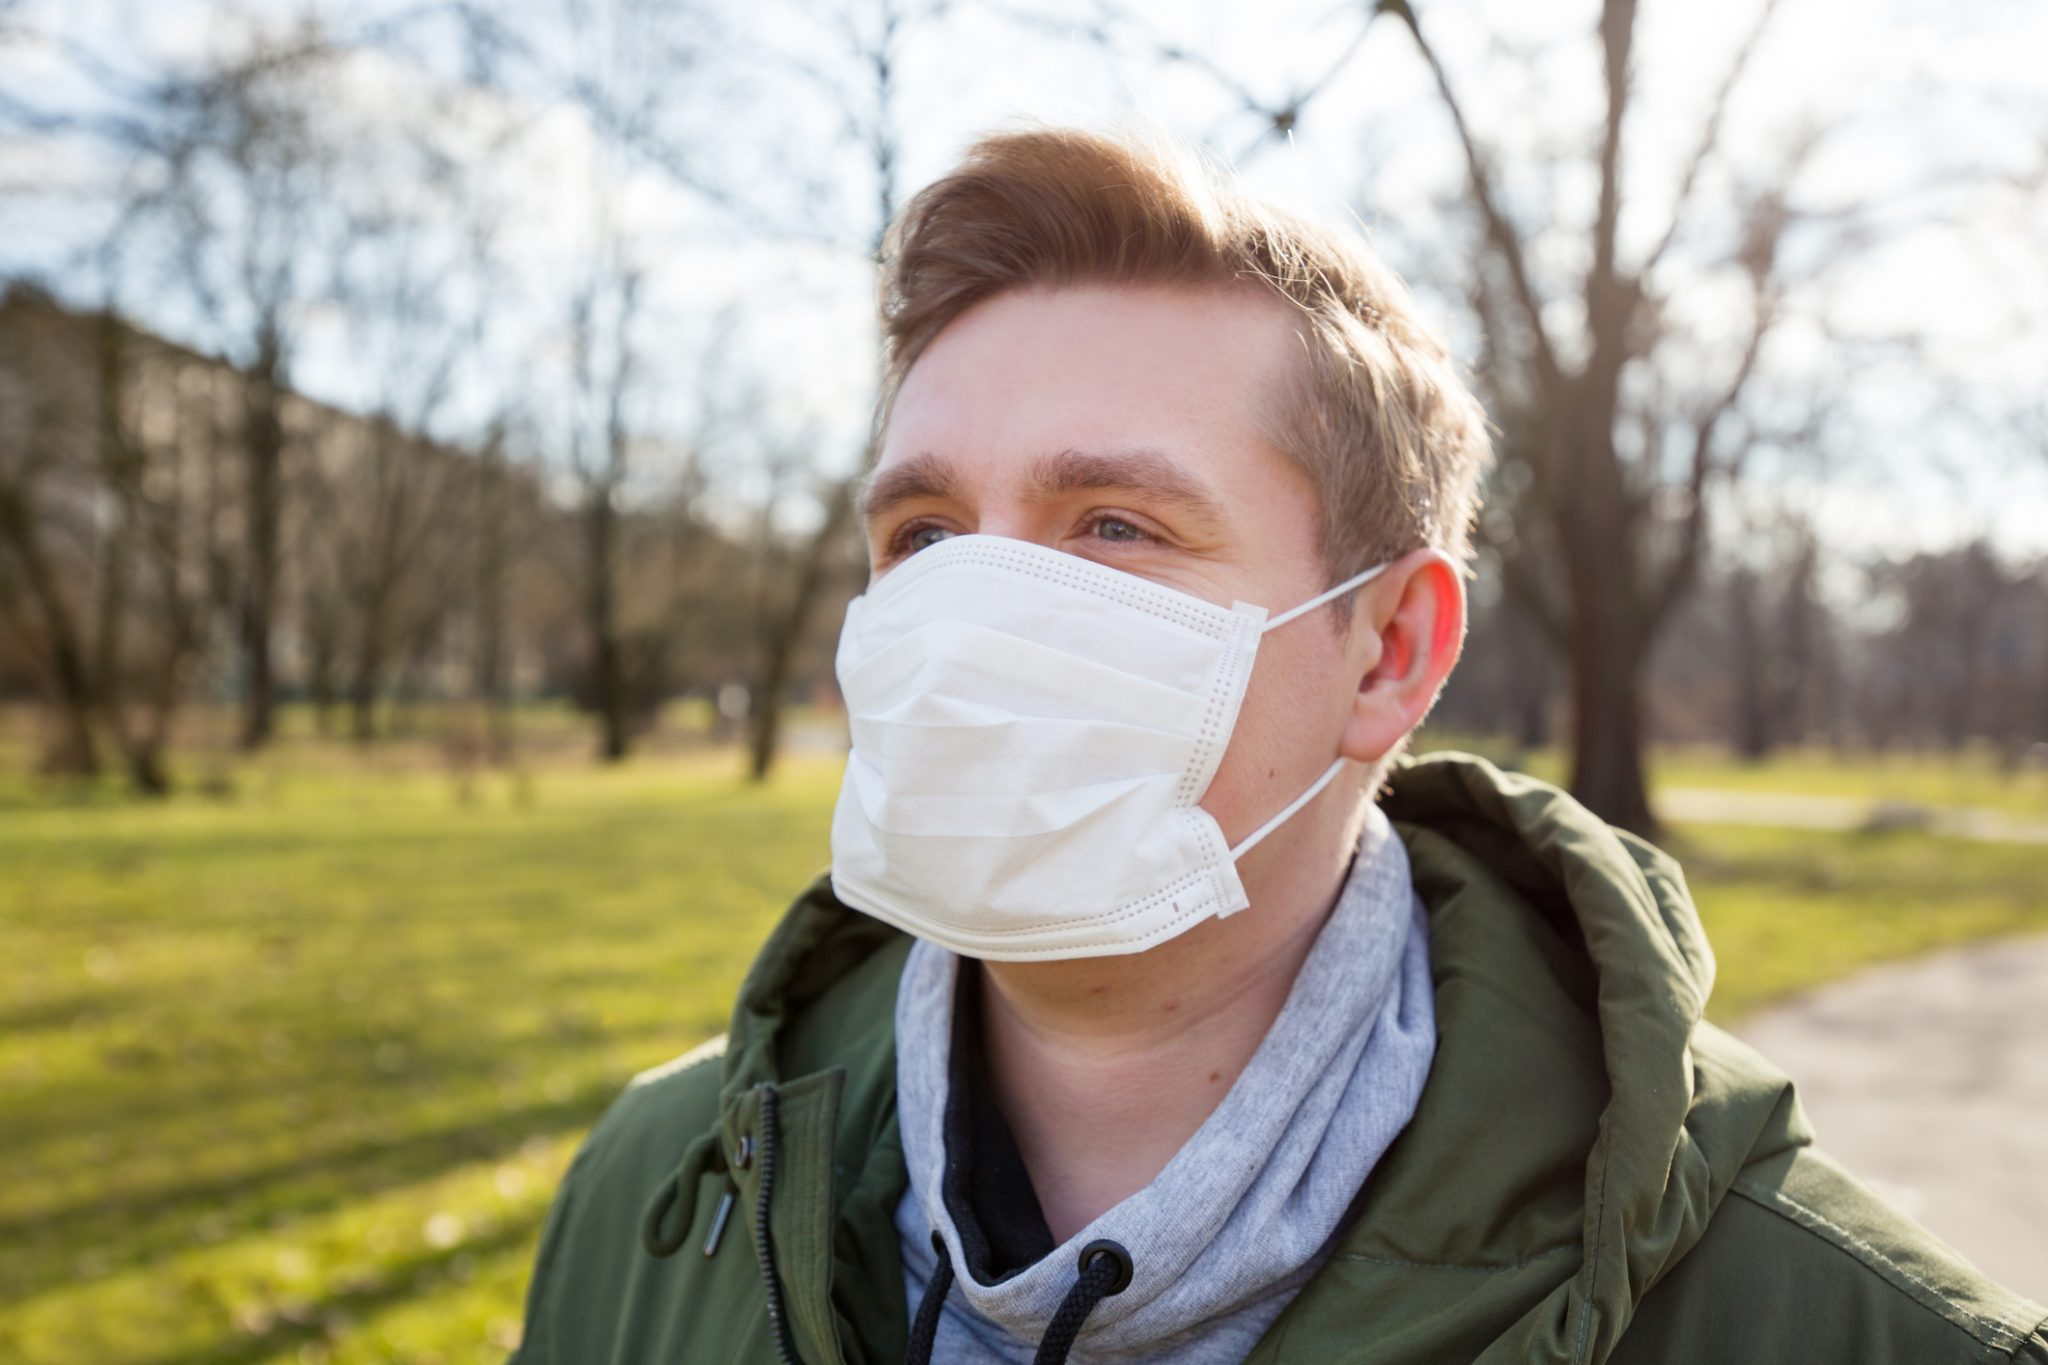with_mask: (905, 388, 1264, 927)
